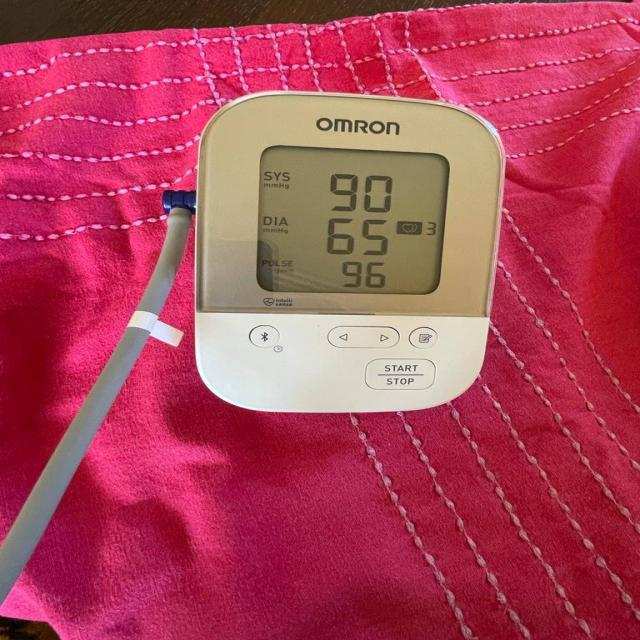bp: (193, 92, 507, 415)
